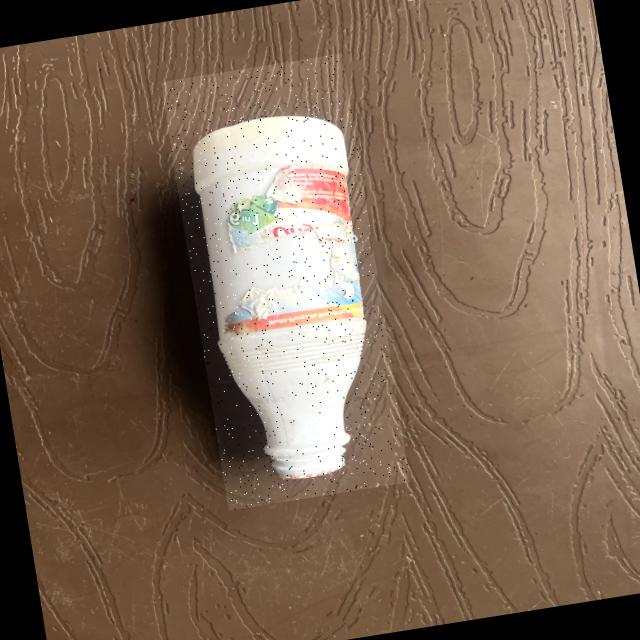REJECT: (160, 52, 410, 510)
